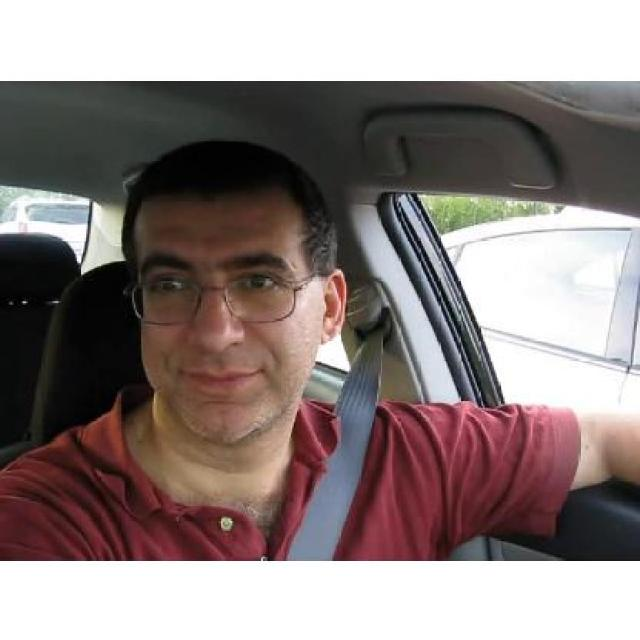attentif: (120, 139, 345, 443)
